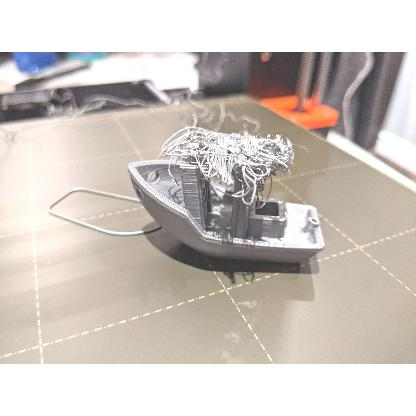fail: (164, 132, 302, 192)
